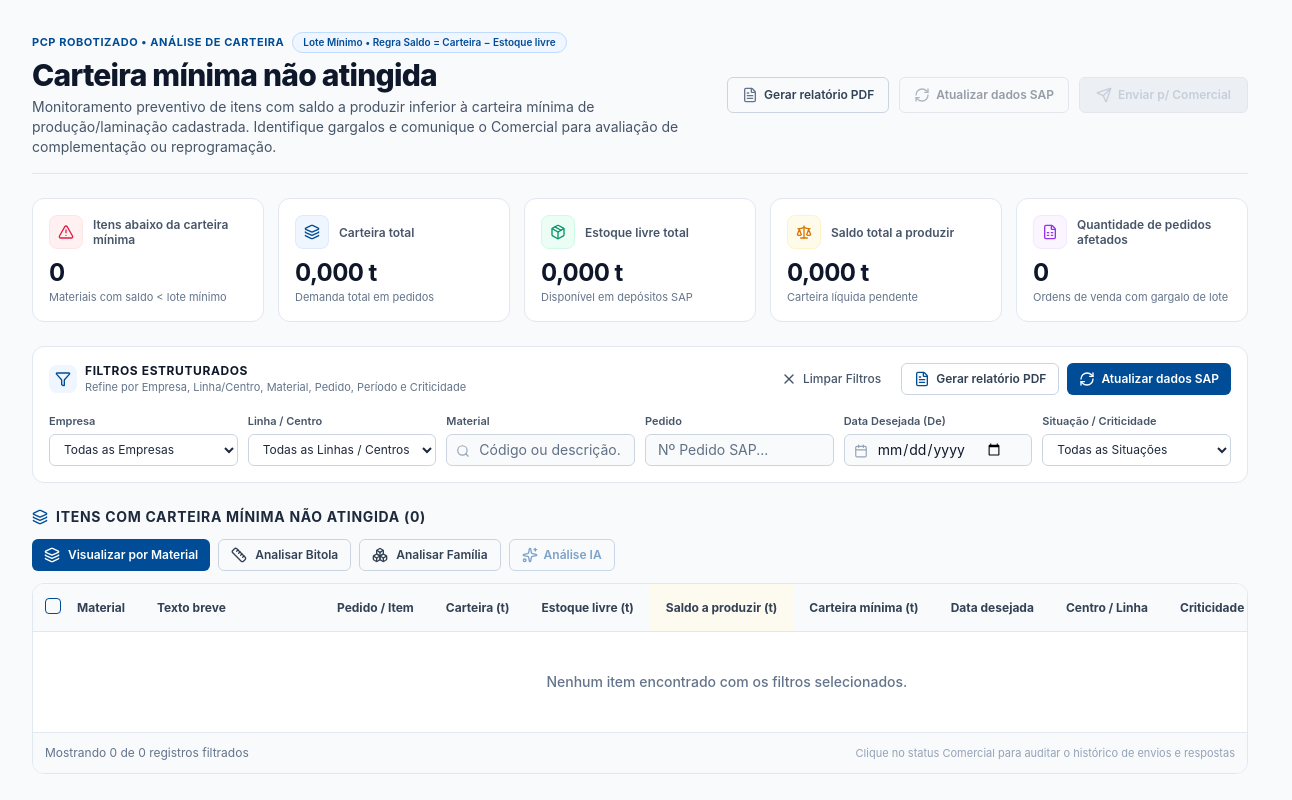
CarteiraMinimaNaoAtingidaPage — Integração e Alternância de Visões › ao clicar em [Visualizar por Material], retorna à visão original por material
Click the button "Analisar Bitola".
click(285, 555)  # box [218,539,351,571]
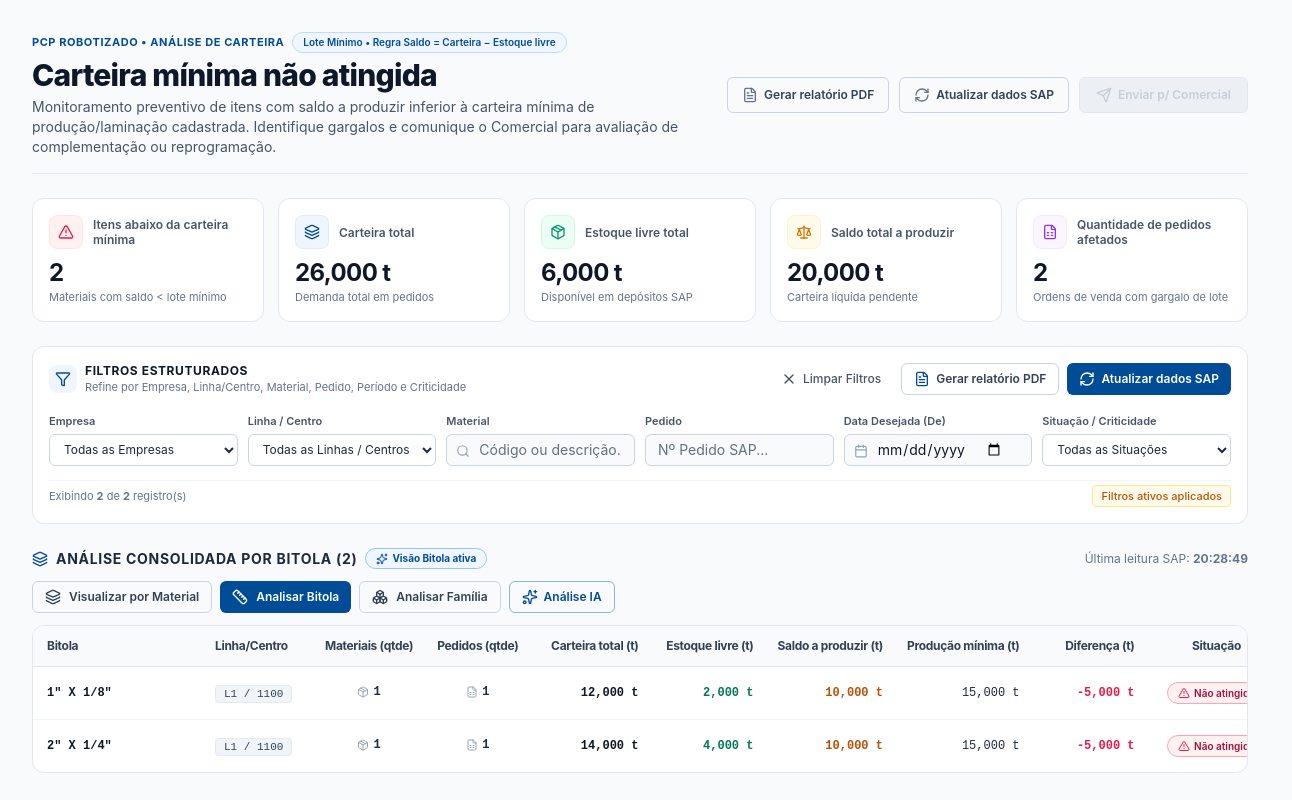
Now the text "Visão Bitola ativa" is shown, box [365,548,487,569]
Click the button "Visualizar por Material".
click(122, 597)  # box [32,581,212,613]
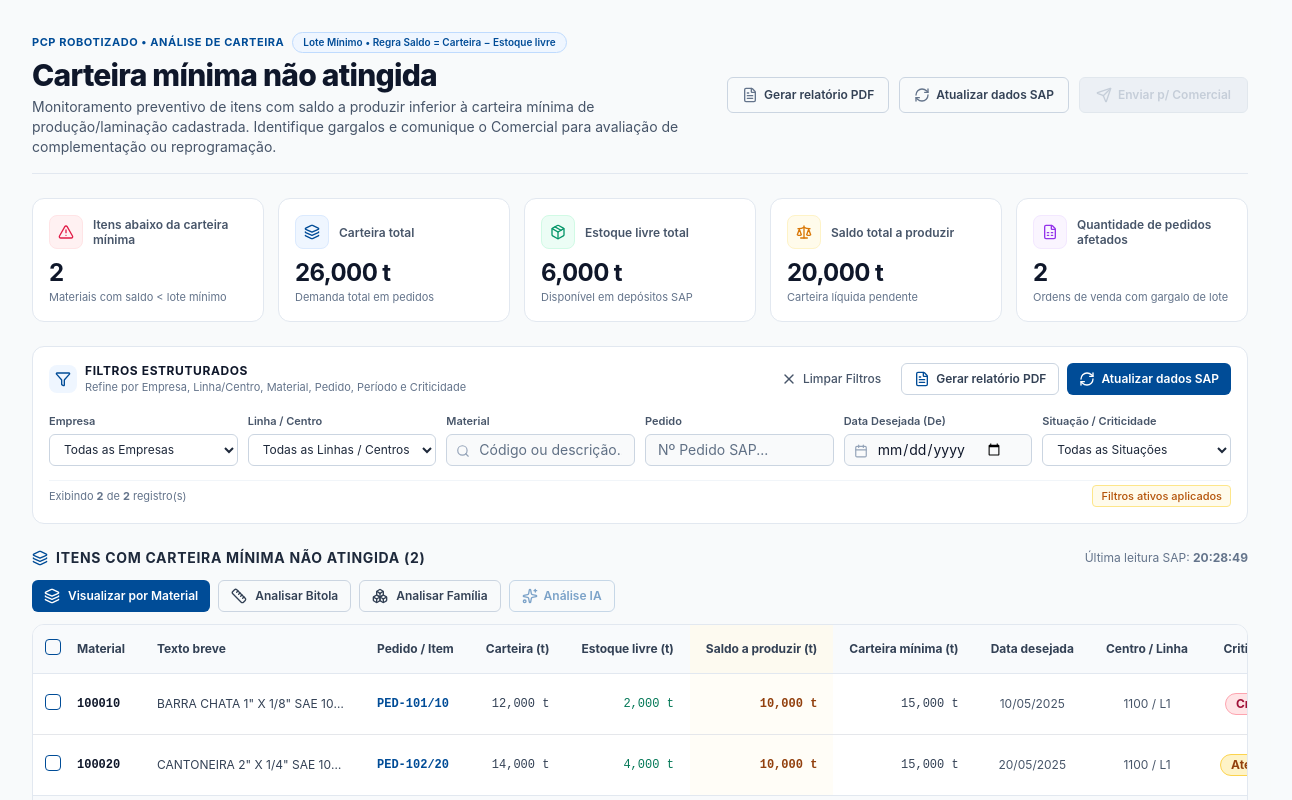
Now the heading "Itens com Carteira Mínima Não Atingida (2)" is shown, box [32,548,426,568]
Now the text "Visão Bitola ativa" is gone
